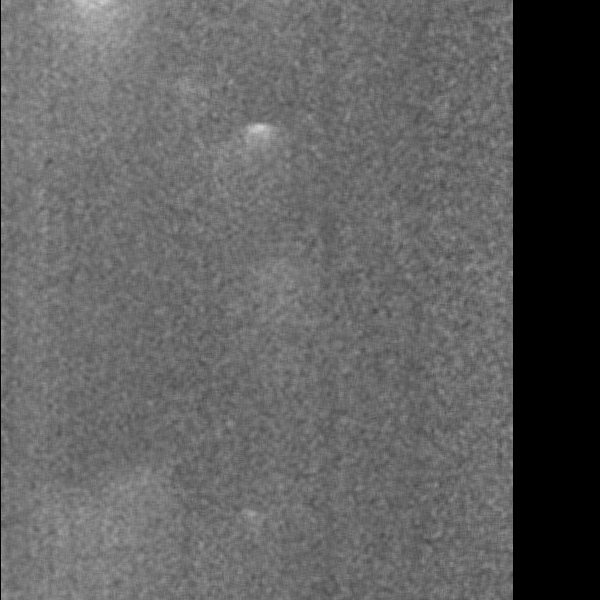spark: (52, 481, 113, 594), (242, 118, 278, 164), (272, 1, 293, 50), (238, 505, 265, 534)
